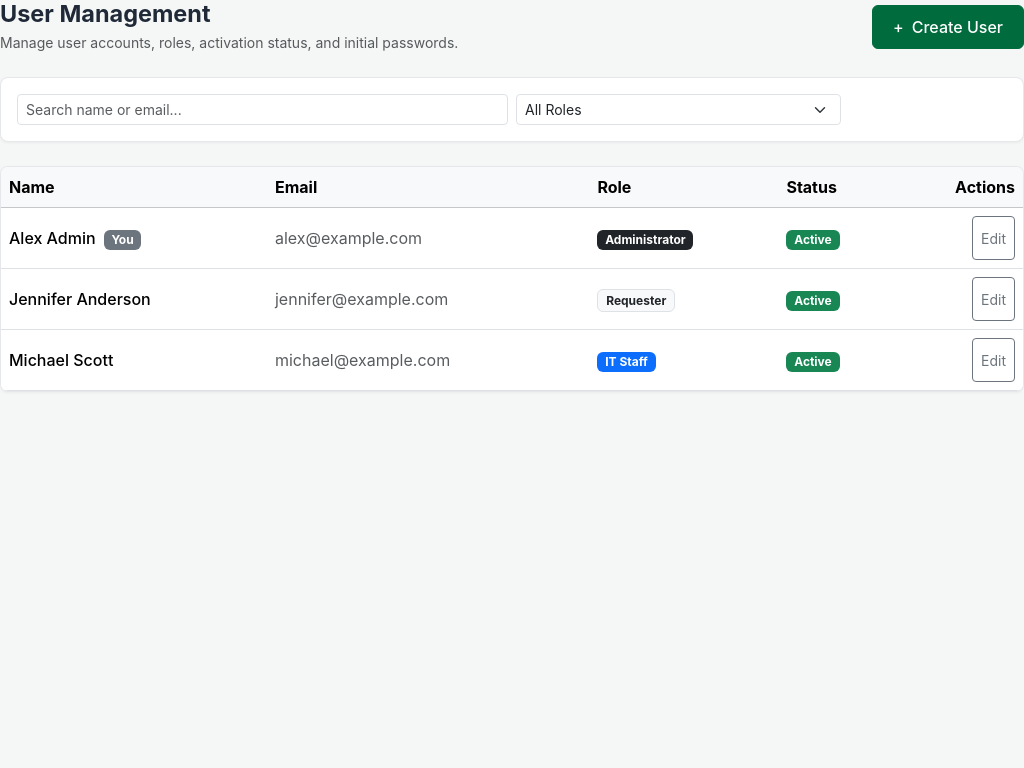
Test: UI-10 Administrator User Management Component › shows unassignment warning when deactivating or demoting an IT Staff member
The width and height of the screenshot is (1024, 768).
Expected: the text "Michael Scott" is shown, [1, 330, 267, 391]
Click the button with aria-label "Edit user Michael Scott": (994, 360) [972, 338, 1015, 382]
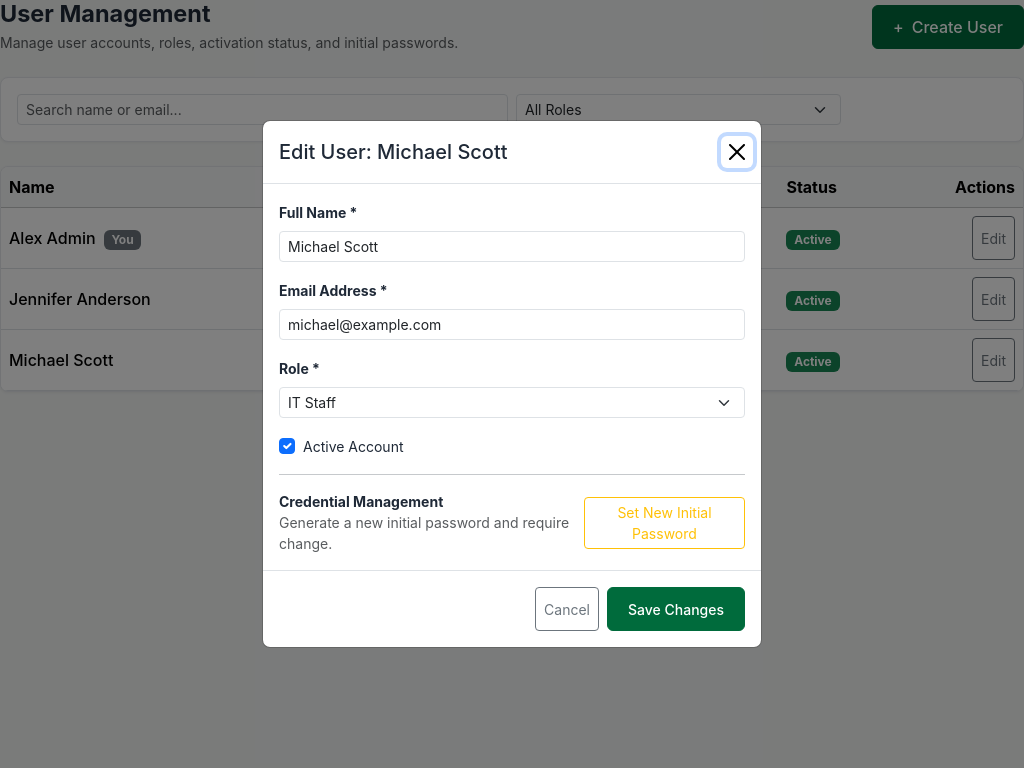
Expected: the checkbox labelled "Active Account" is enabled
Click the checkbox labelled "Active Account": (287, 446) [279, 438, 295, 454]
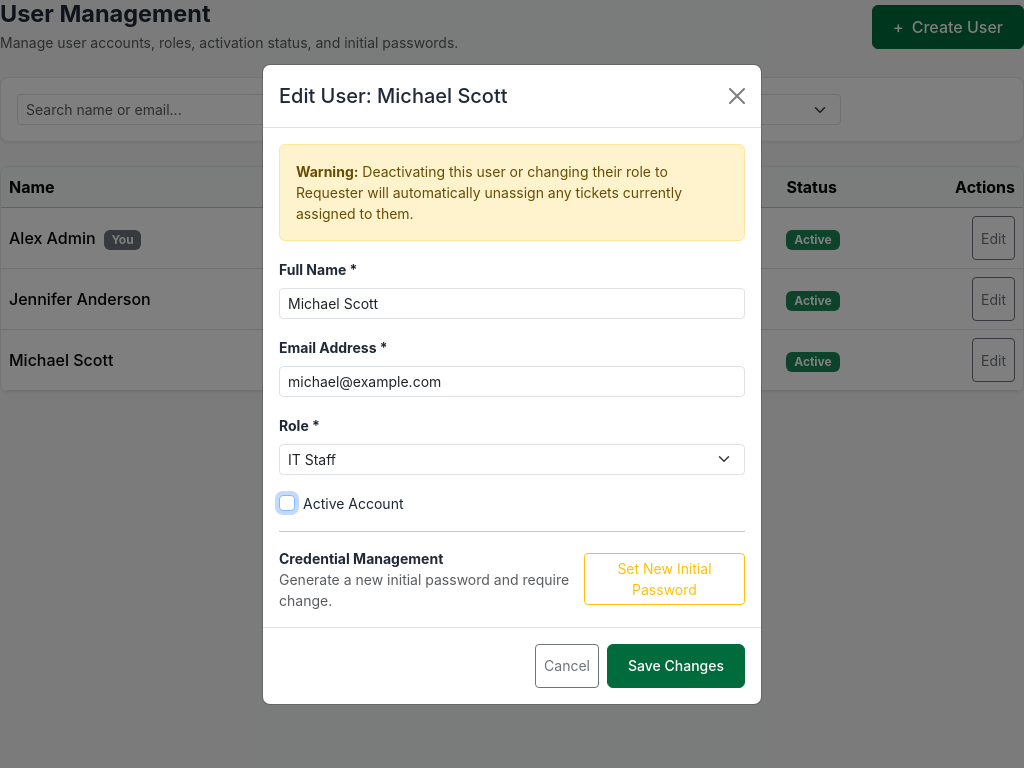
Expected: the text "Deactivating this user or changing their role to Requester will automatically unassign" is shown, [296, 162, 682, 222]
